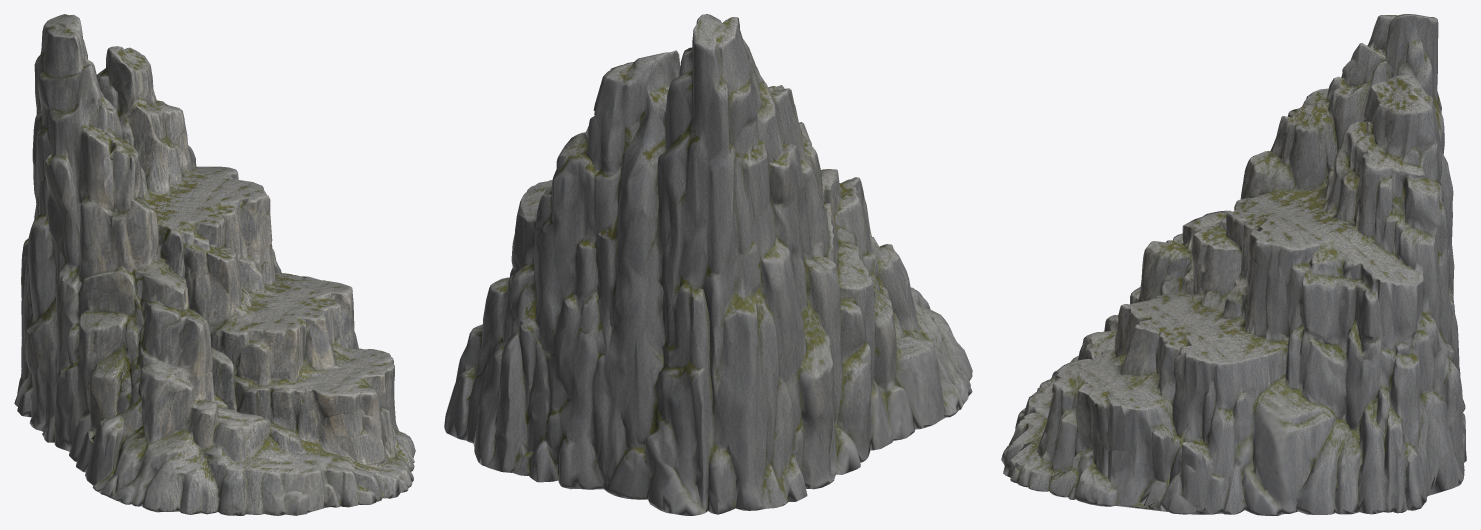
File: refined.glb
The picture shows the model from 3 angles, left to right: view 1: azimuth 30°, elevation 25°; view 2: azimuth 150°, elevation 25°; view 3: azimuth 270°, elevation 25°; orthographic projection. The views are drawn at different scales.
Bounding box in the file's own units: 1.58 × 1.86 × 2.
1 material, 1 textured.
